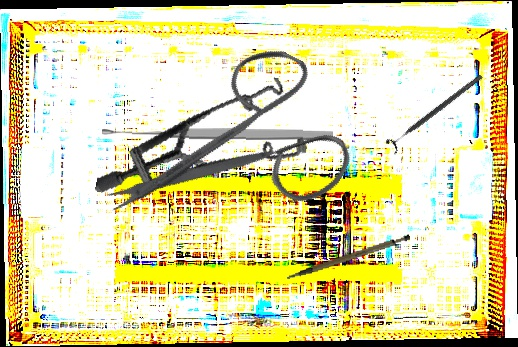Fixation Ring: (383, 68, 488, 156)
Iris Scissors: (101, 9, 381, 300)
Scalpel Handle: (282, 232, 414, 280)
Speculum: (94, 43, 321, 236)
Surgical Spoon: (101, 123, 334, 143)
